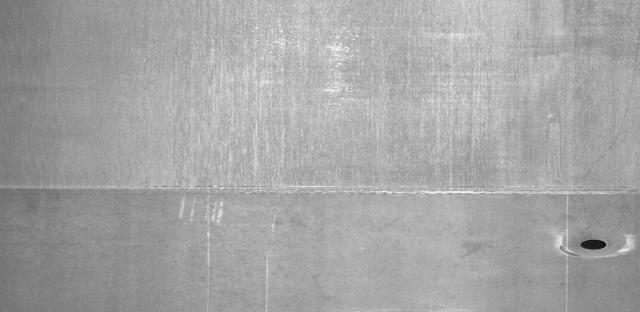punching_hole: (576, 234, 612, 252)
welding_line: (2, 174, 638, 205)
